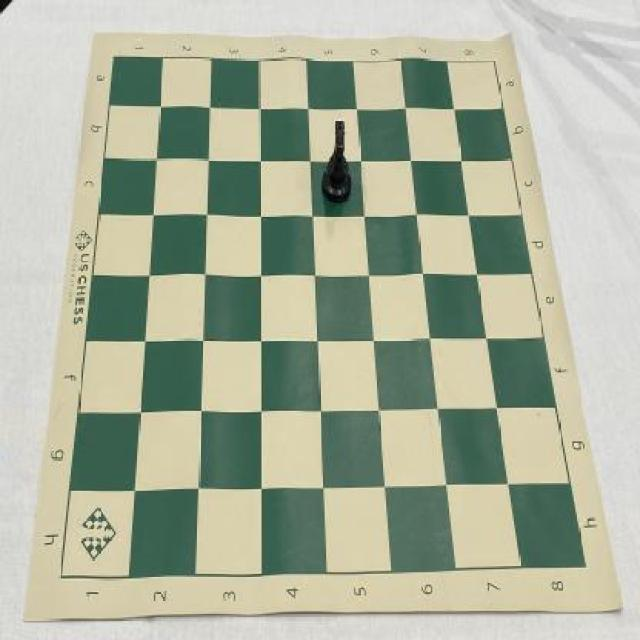black-king: (322, 120, 352, 205)
